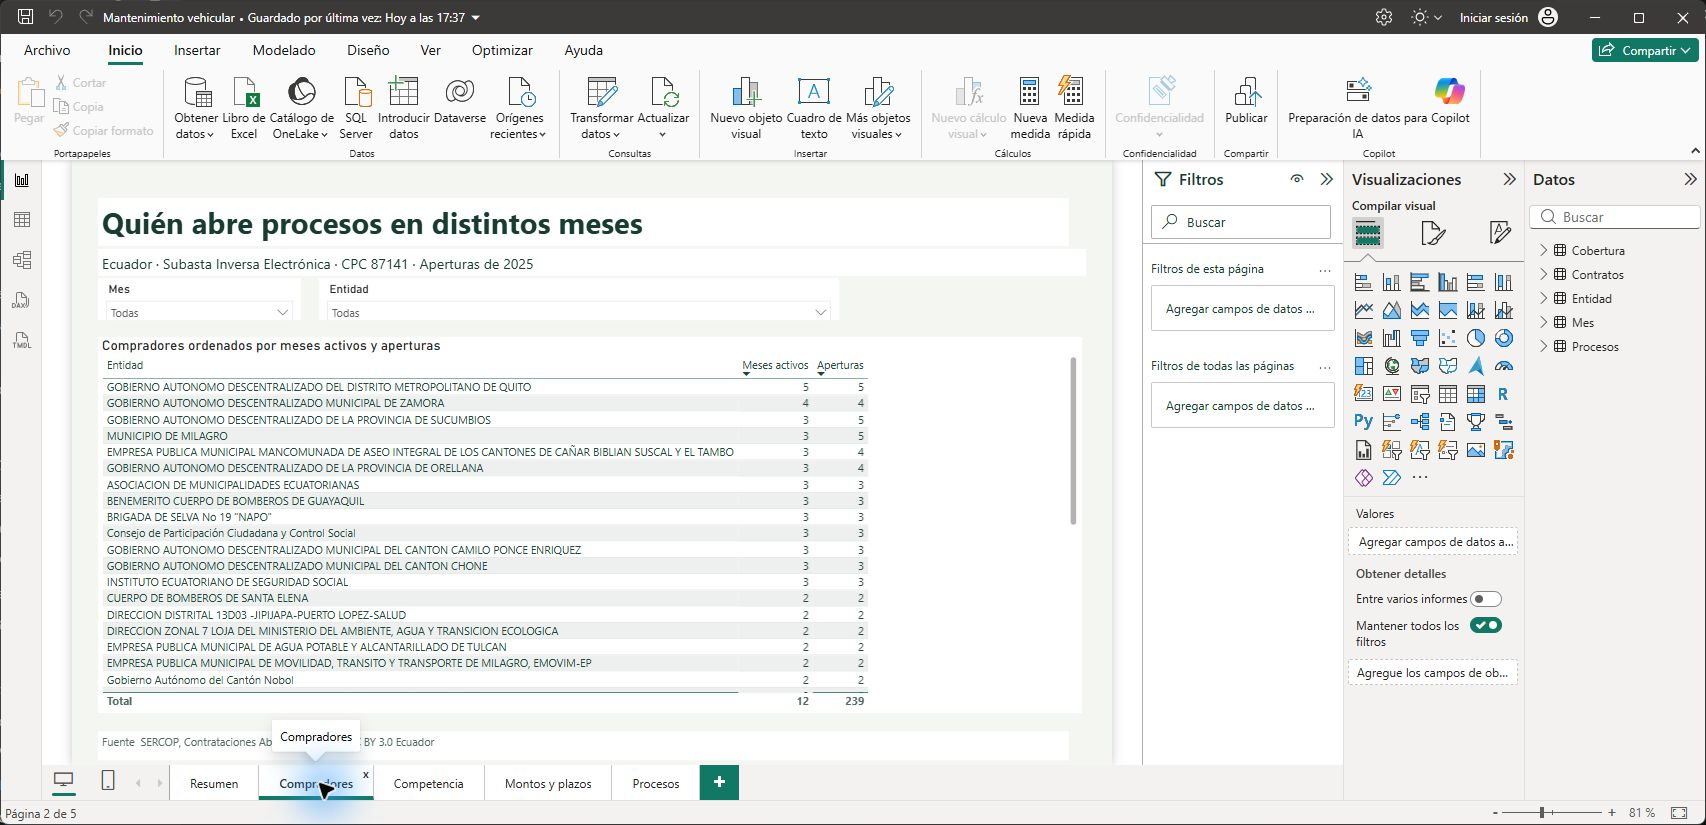

The dashboard page shown, as its layout file describes it:
{"tool":"powerbi","page":{"name":"Compradores","canvas":[1280,720],"ordinal":1},"visuals":[{"type":"textbox","box":[32,22,1195,59],"z":100},{"type":"textbox","box":[32,85,1216,33],"z":200},{"type":"slicer","fields":{"Values":["Mes.Mes"]},"box":[32,121,250,52],"z":300},{"type":"slicer","fields":{"Values":["Entidad.Entidad"]},"box":[304,121,640,52],"z":400},{"type":"textbox","box":[32,678,1195,36],"z":500},{"type":"tableEx","title":"Compradores ordenados por meses activos y aperturas","fields":{"Values":["Entidad.Entidad","Procesos.Meses activos","Procesos.Aperturas"]},"box":[32,193,1210,462],"z":600}]}

Visuals, with their boxes on the page's 1280x720 design canvas (x1, y1, x2, y2). These are canvas units, not pixel positions in the 1706x825 screenshot, which may show the page scaled, cropped or inside an application window:
textbox: rect(32, 22, 1227, 81)
textbox: rect(32, 85, 1248, 118)
slicer - Mes.Mes: rect(32, 121, 282, 173)
slicer - Entidad.Entidad: rect(304, 121, 944, 173)
textbox: rect(32, 678, 1227, 714)
"Compradores ordenados por meses activos y aperturas" tableEx: rect(32, 193, 1242, 655)
